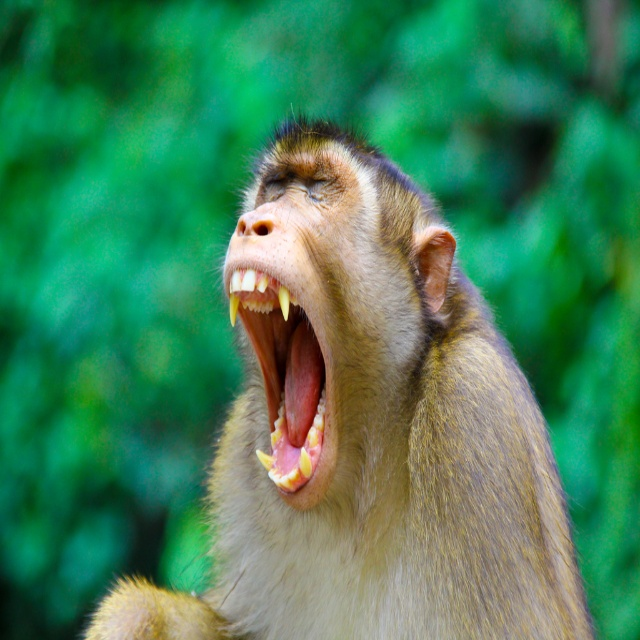Monkey: (83, 106, 596, 639)
